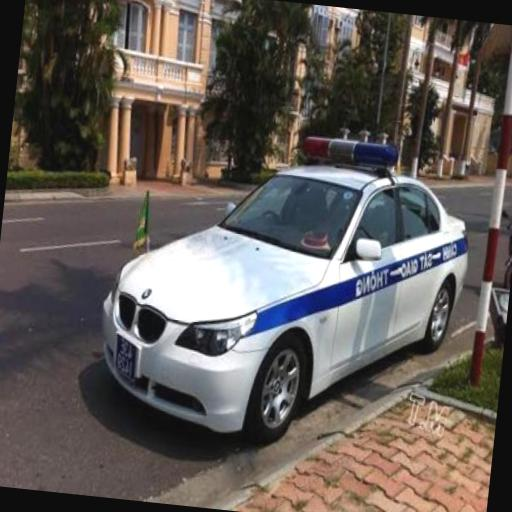Ambulance: (88, 112, 477, 458)
